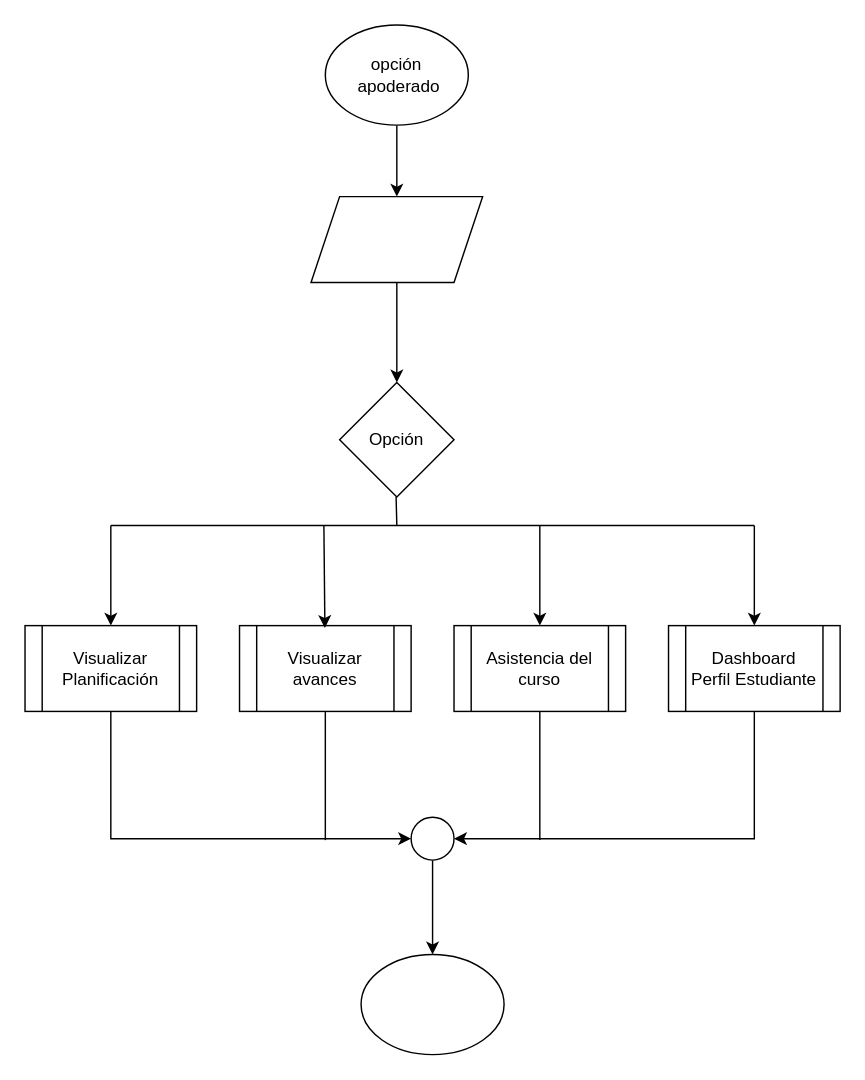
Some shapes in this 865 by 1080 pixel diagram are drawn without their labels. Each missing label, with the centre of its shape:
Fin Algoritmo: the point at 432,1004
opción curso estudiante: the point at 396,238
